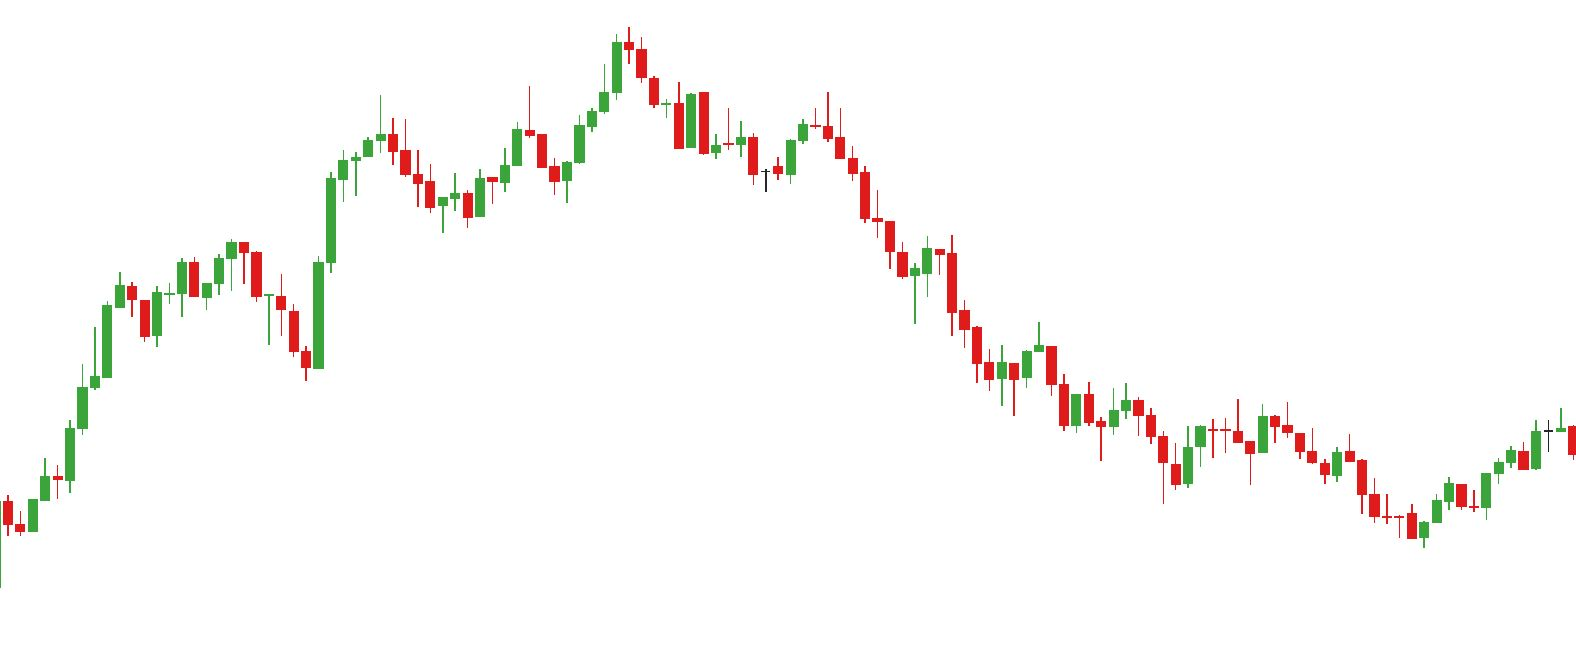buy: (337, 144, 461, 235)
